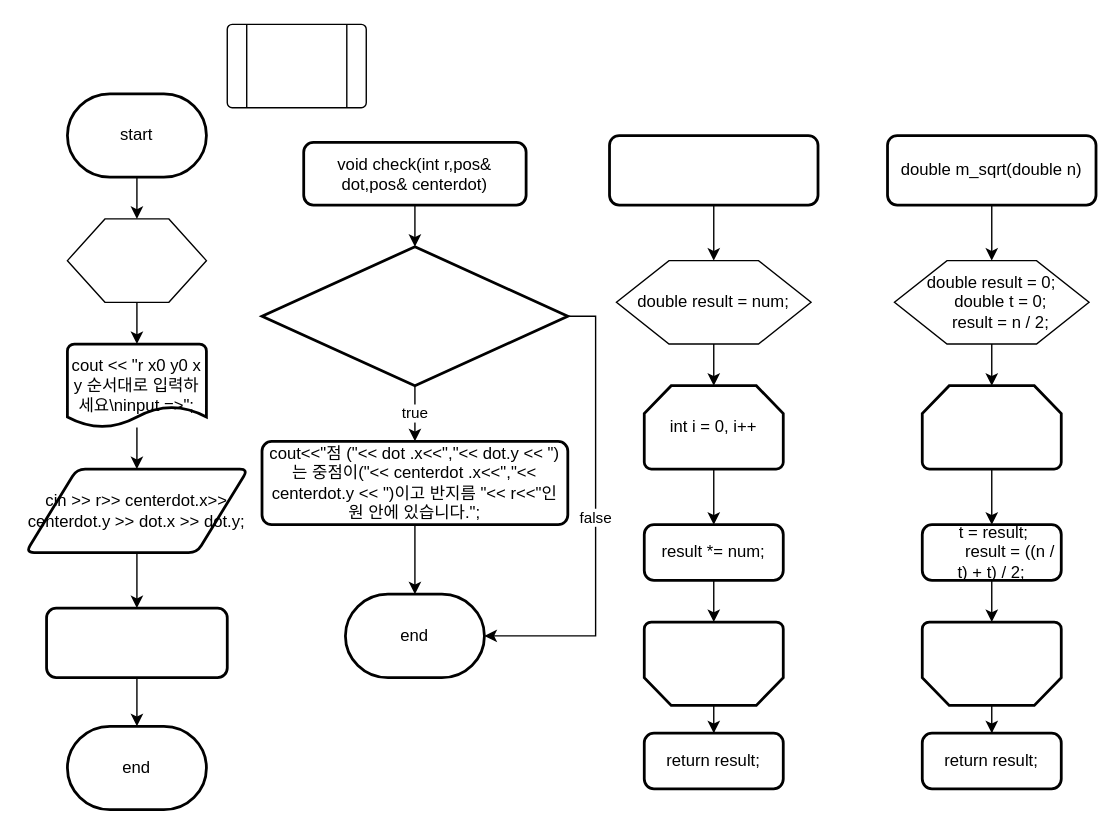
Image size: 1120x835. Some labels were removed from this diagram. The shapes that lost their labels are listed below. From the top down, each one's centre as x and y in pixels, then its label:
the point at 296,65: struct pos{ double x, y; };
the point at 713,169: double m_pow(double num, double m)
the point at 136,260: pos dot; pos centerdot; int r;
the point at 414,315: (r >= m_sqrt(m_pow((dot.x - centerdot.x), 2) + m_pow((dot.y - centerdot.y), 2)))
the point at 991,427: while (result != t)
the point at 136,642: check(r, dot, centerdot);
the point at 713,663: i < m - 1
